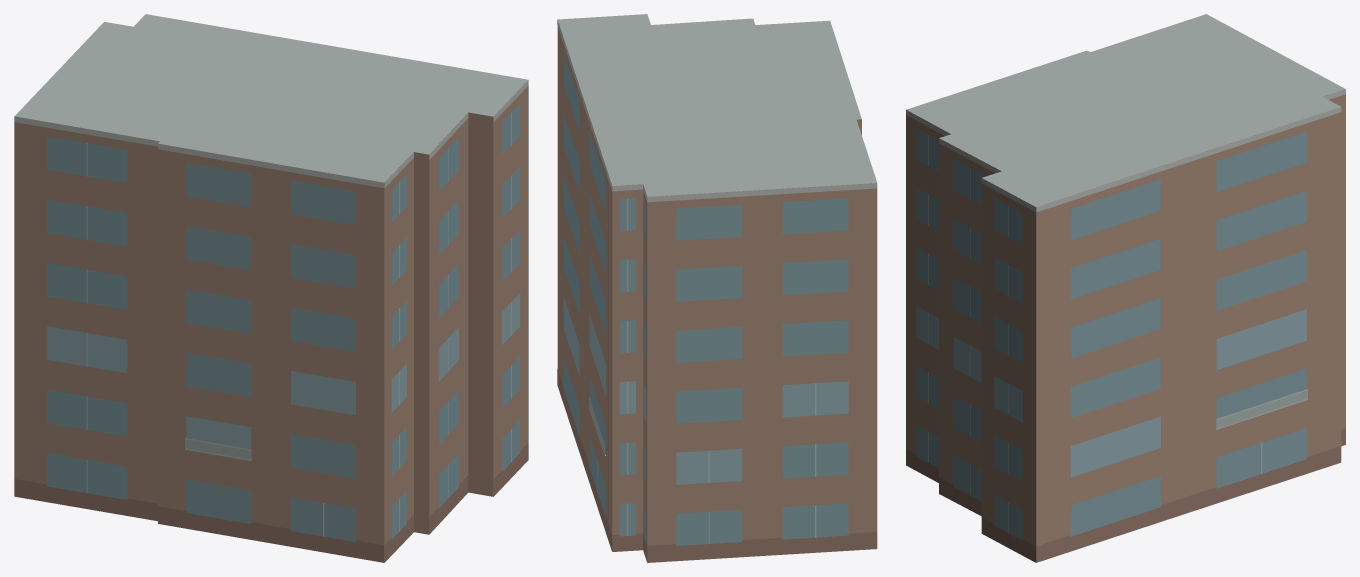
File: survey-upis-33027050.glb
3 renders of one model, left to right at view 1: azimuth 30°, elevation 25°; view 2: azimuth 150°, elevation 25°; view 3: azimuth 270°, elevation 25°, orthographic. The views are drawn at different scales.
Visible parts, largest first — view 1: survey-upis-33027050.tmp; view 2: survey-upis-33027050.tmp; view 3: survey-upis-33027050.tmp.
Part boxes in pixels (x1,y1,x2,y2): survey-upis-33027050.tmp: (14, 14, 528, 562); survey-upis-33027050.tmp: (557, 14, 877, 562); survey-upis-33027050.tmp: (906, 14, 1345, 562).
Bounding box in the file's own units: 19.11 × 16.4 × 18.39.
